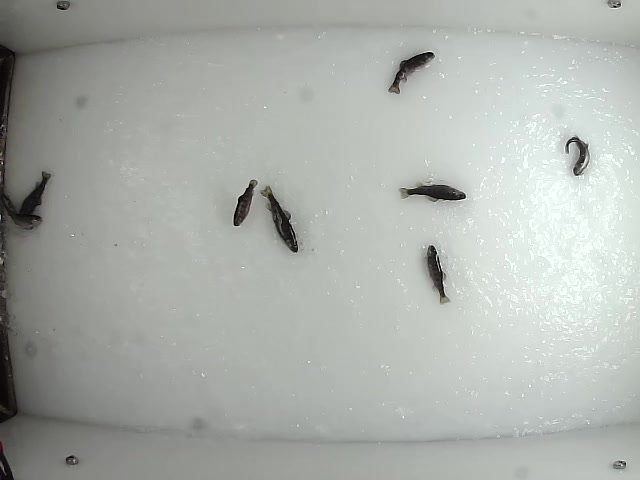fish: (260, 183, 302, 253), (385, 50, 440, 97), (13, 168, 53, 224), (1, 188, 45, 232), (422, 243, 453, 305), (397, 182, 468, 204), (231, 177, 261, 229), (563, 134, 591, 177)
